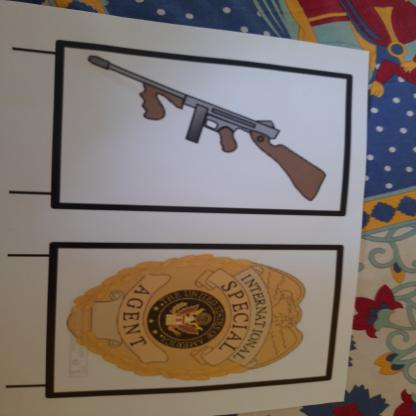Bootlegger: (65, 52, 342, 214)
G-man: (56, 245, 326, 386)
